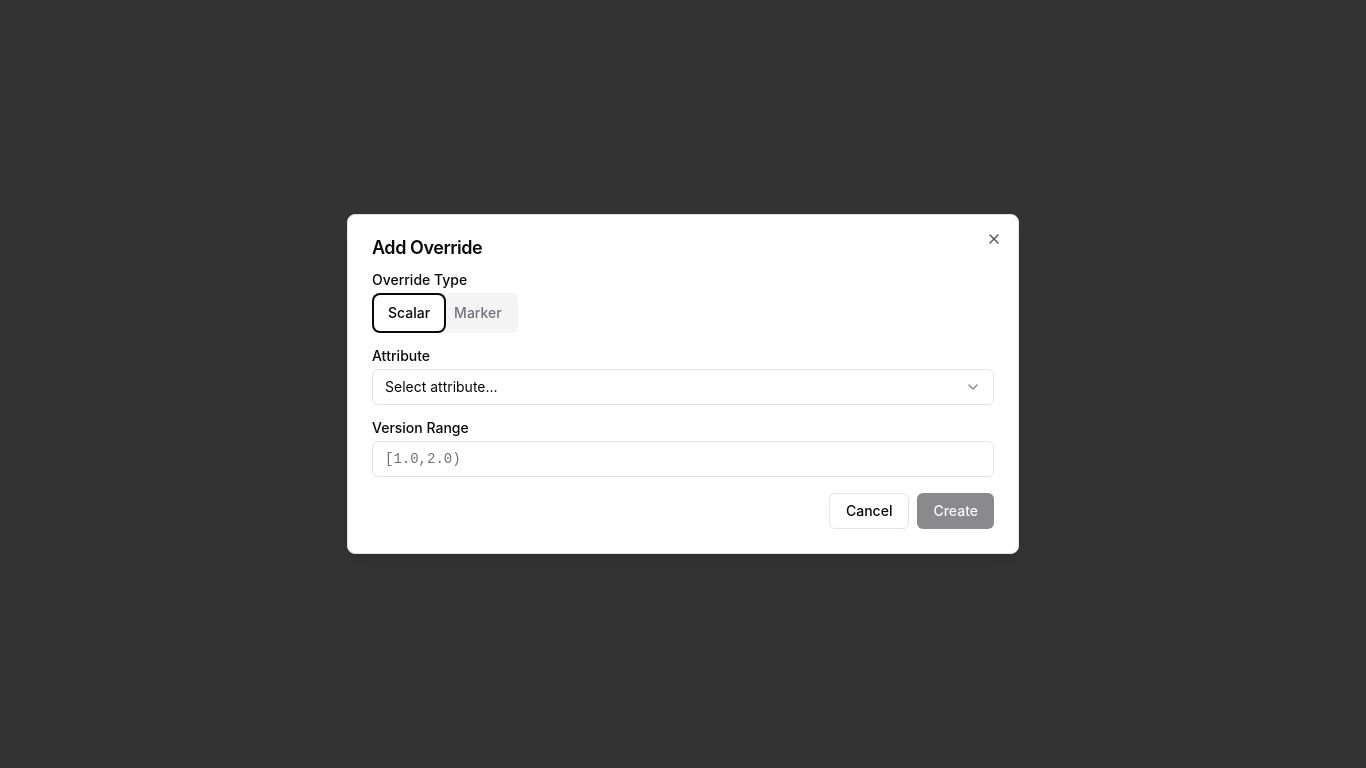
Test: OverrideRowEditor — D5 closed-range enforcement › renders inline error when range is syntactically invalid
Type "garbage" into the field labelled "Version Range".
click(683, 459); type("garbage")  # box [372,441,994,477]
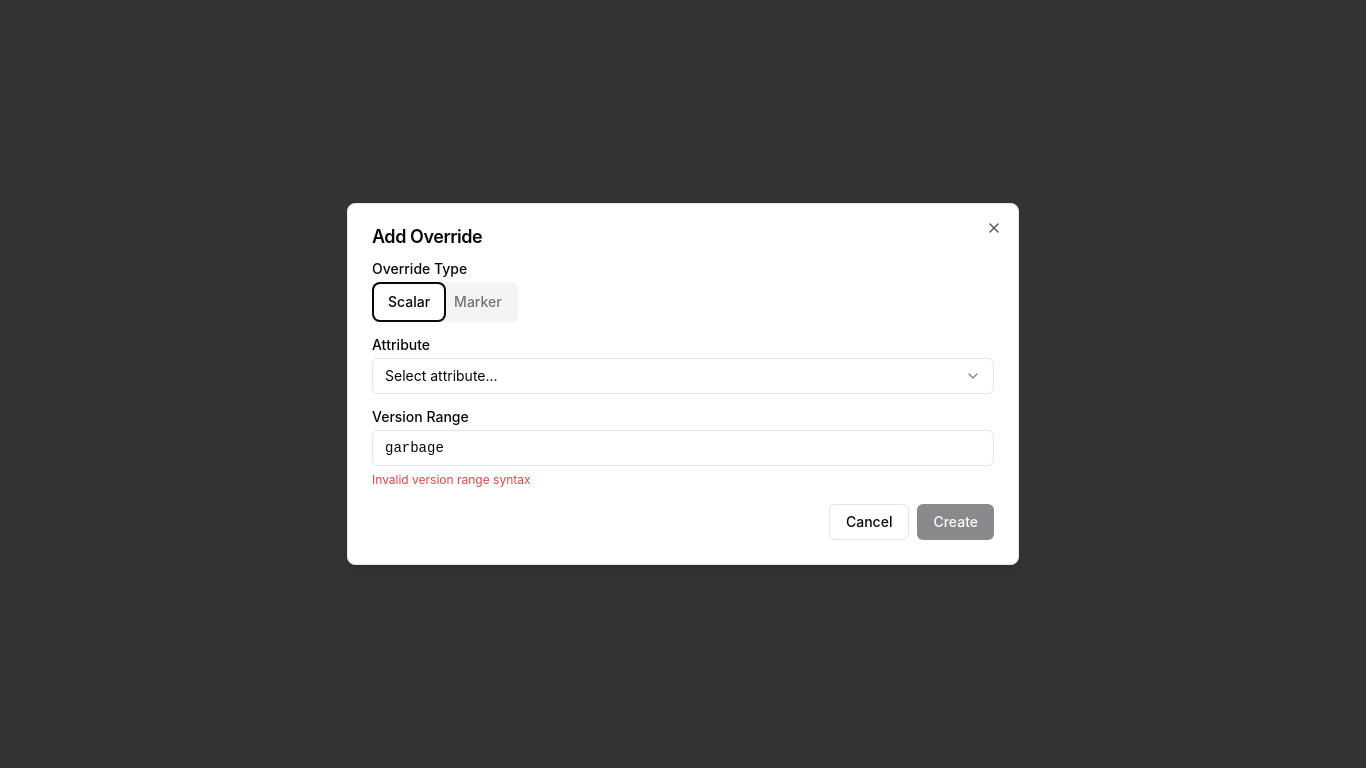
Expected: the text "Invalid version range syntax" is shown, [372,472,530,487]
